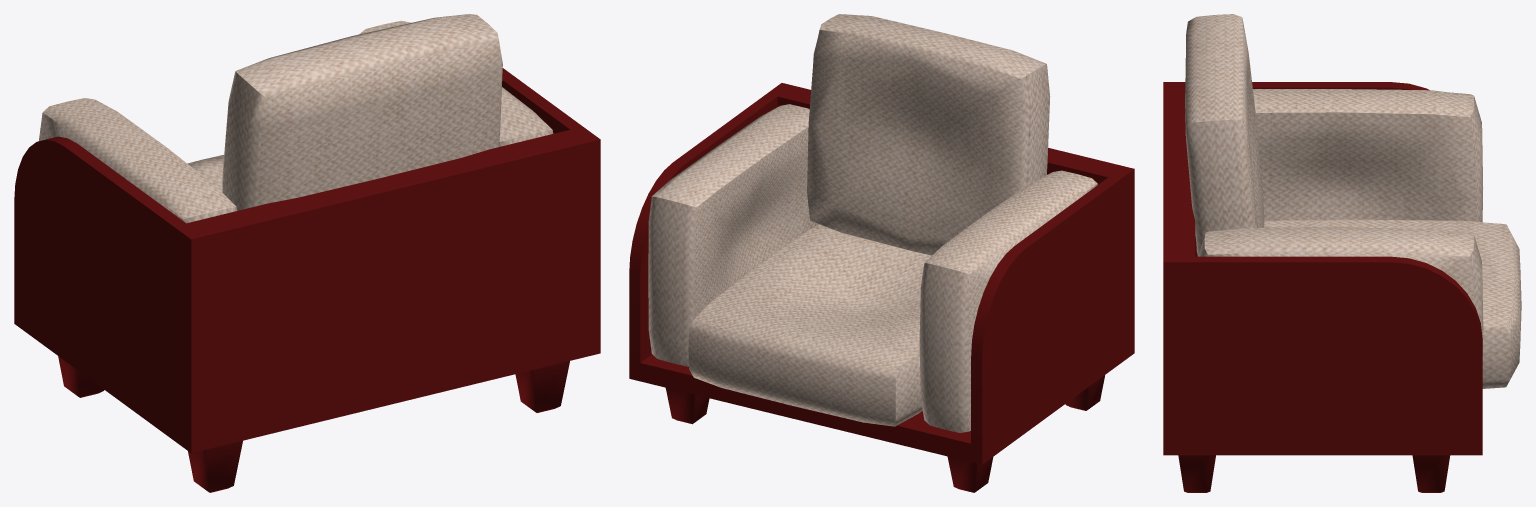
Rendered from furniture_seating_210065.glb.
The picture shows the model from 3 angles, left to right: view 1: azimuth 30°, elevation 25°; view 2: azimuth 150°, elevation 25°; view 3: azimuth 270°, elevation 25°; orthographic projection. The views are drawn at different scales.
Visible parts, largest first — view 1: furniture_seating_210065; view 2: furniture_seating_210065; view 3: furniture_seating_210065.
Boxes of the visible parts, <box> form: furniture_seating_210065: <box>14,14,600,492</box>; furniture_seating_210065: <box>629,14,1134,492</box>; furniture_seating_210065: <box>1163,14,1521,492</box>.
Bounding box in the file's own units: 0.9557 × 0.8823 × 0.8029.
Materials: 1 (1 with a texture image).
